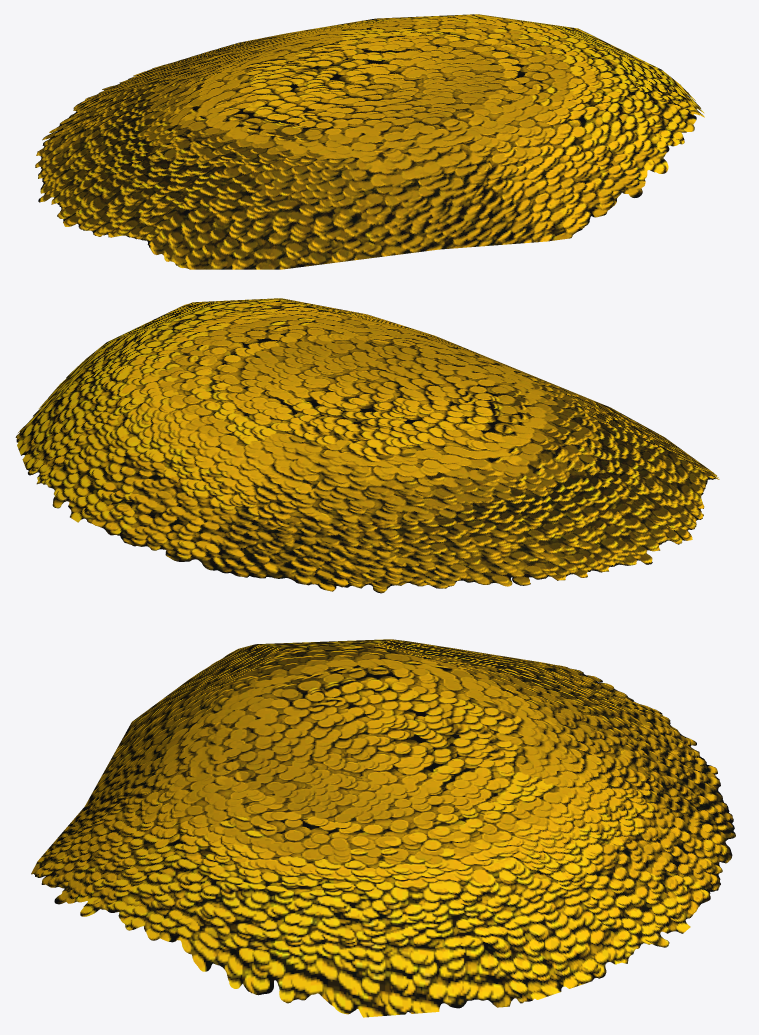
The model's file is INST_SM_GOLDPILE_MEDIUMF.fbx.
The picture shows the model from 3 angles, top to bottom: view 1: azimuth 30°, elevation 25°; view 2: azimuth 150°, elevation 25°; view 3: azimuth 270°, elevation 25°; orthographic projection. The views are drawn at different scales.
Visible parts, largest first — view 1: INST_SM_GOLDPILE_MEDIUMF; view 2: INST_SM_GOLDPILE_MEDIUMF; view 3: INST_SM_GOLDPILE_MEDIUMF.
Part boxes in pixels (<box>): INST_SM_GOLDPILE_MEDIUMF: <box>35,14,704,269</box>; INST_SM_GOLDPILE_MEDIUMF: <box>15,298,719,593</box>; INST_SM_GOLDPILE_MEDIUMF: <box>31,639,735,1017</box>.
Size of the model in its own units: 95000 by 10000 by 77500.
1 material, 1 textured.
